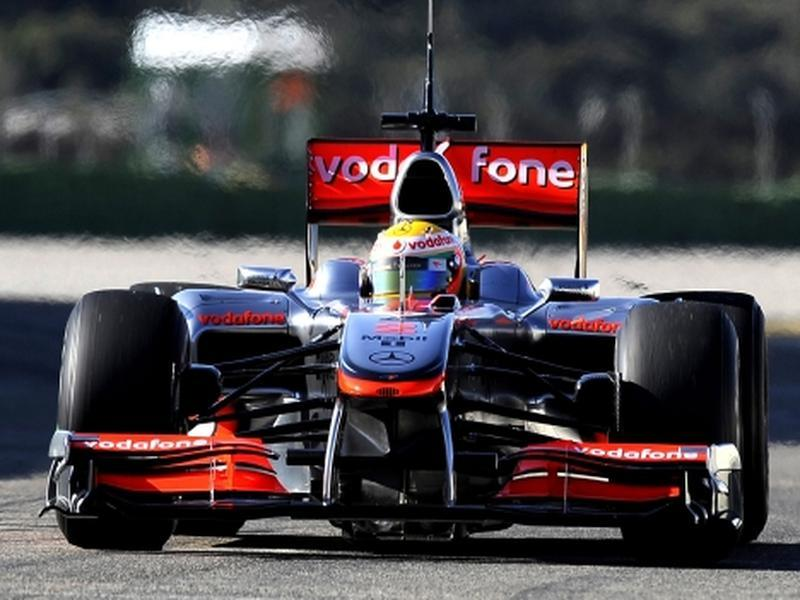f1: (54, 95, 780, 563)
